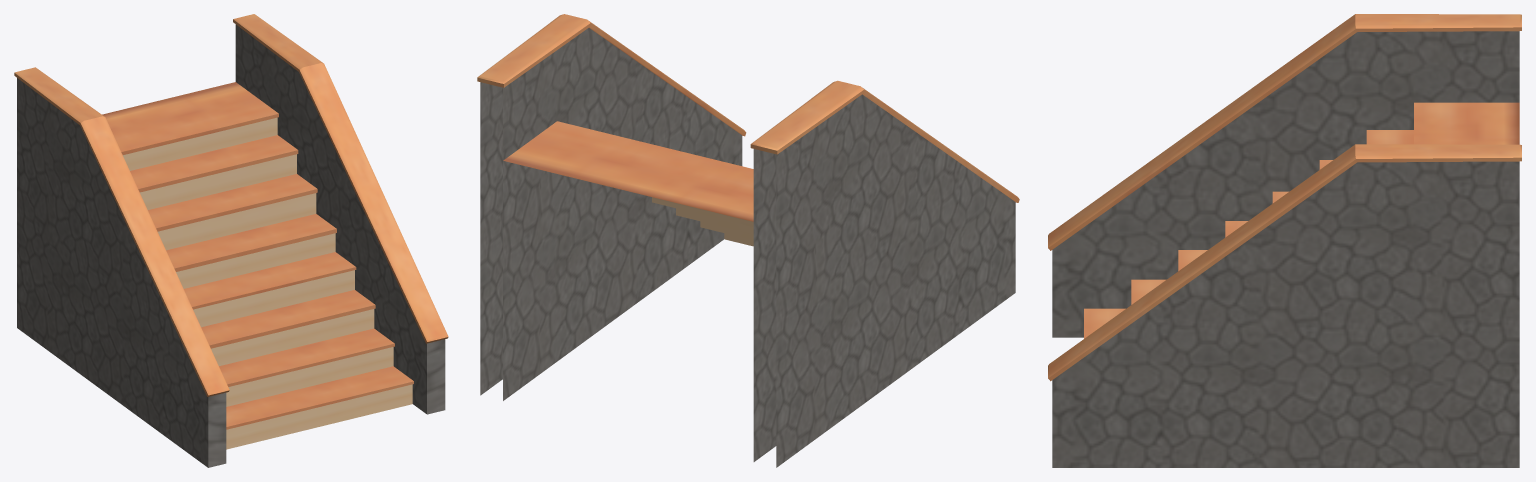
File: ModularFrontStairsV1ForH.fbx
The picture shows the model from 3 angles, left to right: view 1: azimuth 30°, elevation 25°; view 2: azimuth 150°, elevation 25°; view 3: azimuth 270°, elevation 25°; orthographic projection. The views are drawn at different scales.
Visible parts, largest first — view 1: HFrontStairs_V2_2; view 2: HFrontStairs_V2_2; view 3: HFrontStairs_V2_2.
Boxes of the visible parts, left/top/right/bottom form: HFrontStairs_V2_2: left=14, top=14, right=448, bottom=467; HFrontStairs_V2_2: left=477, top=14, right=1019, bottom=467; HFrontStairs_V2_2: left=1048, top=14, right=1521, bottom=467.
Size of the model in its own units: 11.02 by 11.08 by 15.21.
